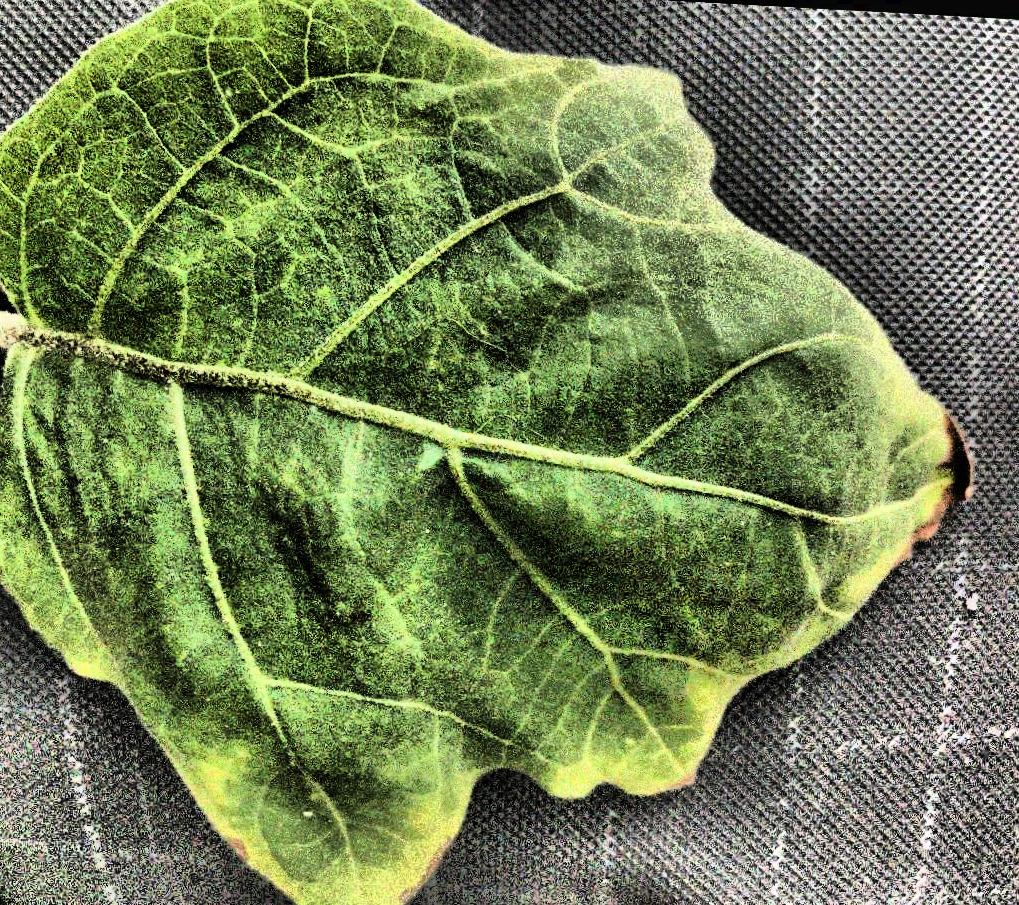Critical Stress: (1, 0, 1019, 905)
